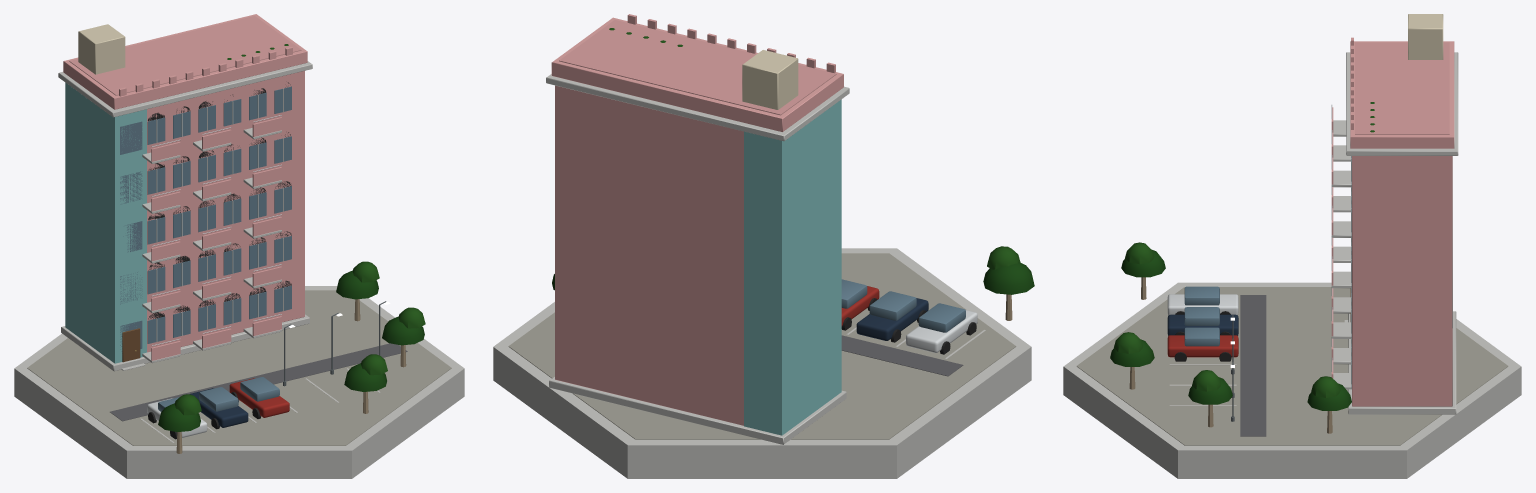
File: apartments_india.glb
3 views of the same model, side by side, from view 1: azimuth 30°, elevation 25°; view 2: azimuth 150°, elevation 25°; view 3: azimuth 270°, elevation 25° (orthographic). The views are drawn at different scales.
Visible parts, largest first — view 1: plaster, pavers, wall_concrete, paint, glass, leaf, asphalt, dark, wood, metal; view 2: plaster, paint, wall_concrete, pavers, glass, leaf, asphalt; view 3: plaster, pavers, wall_concrete, leaf, asphalt, paint, glass, wood.
Part boxes in pixels (left/top/right/bottom): plaster: left=63, top=14, right=307, bottom=360; pavers: left=27, top=290, right=451, bottom=445; wall_concrete: left=14, top=61, right=464, bottom=478; paint: left=65, top=82, right=289, bottom=437; glass: left=120, top=86, right=291, bottom=411; leaf: left=158, top=44, right=425, bottom=432; asphalt: left=110, top=343, right=407, bottom=421; dark: left=148, top=82, right=291, bottom=439; wood: left=122, top=299, right=406, bottom=453; metal: left=152, top=115, right=281, bottom=345; plaster: left=551, top=14, right=843, bottom=425; paint: left=744, top=99, right=977, bottom=435; wall_concrete: left=493, top=74, right=1031, bottom=478; pavers: left=508, top=253, right=1016, bottom=439; glass: left=841, top=279, right=965, bottom=332; leaf: left=552, top=28, right=1034, bottom=294; asphalt: left=841, top=335, right=963, bottom=376; plaster: left=1331, top=14, right=1454, bottom=406; pavers: left=1076, top=287, right=1508, bottom=445; wall_concrete: left=1063, top=52, right=1521, bottom=478; leaf: left=1110, top=102, right=1374, bottom=410; asphalt: left=1240, top=295, right=1266, bottom=436; paint: left=1167, top=156, right=1452, bottom=357; glass: left=1184, top=156, right=1351, bottom=387; wood: left=1129, top=277, right=1350, bottom=433.
Size of the model in its own units: 21.3 by 20.04 by 24.6.
